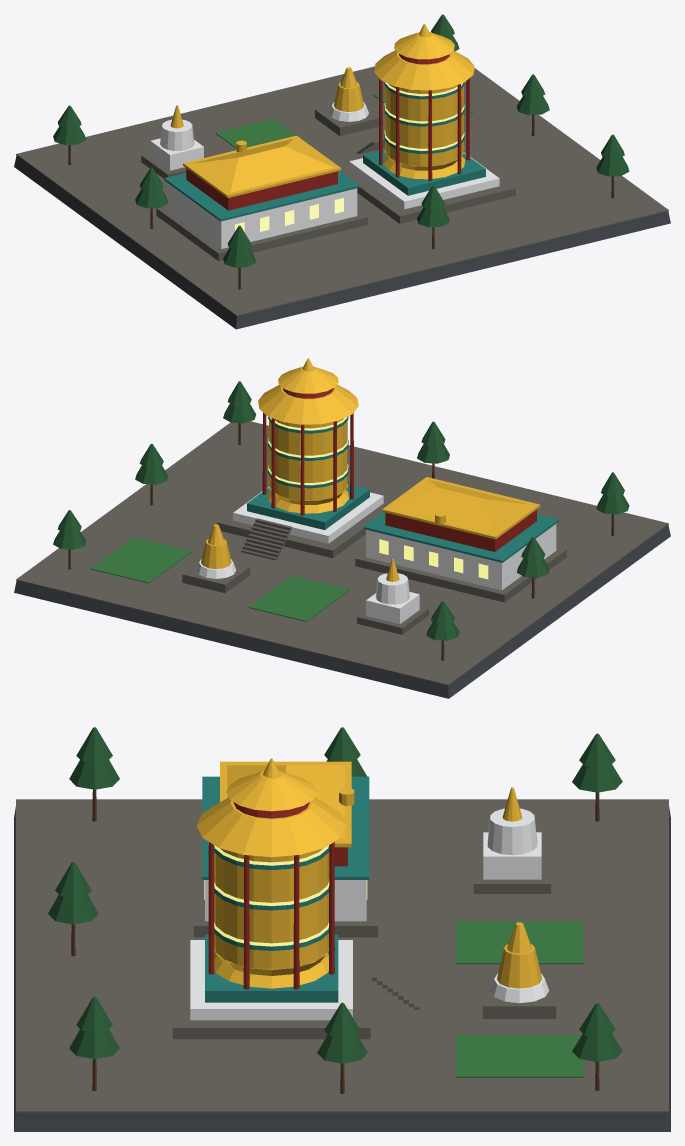
The model's file is lm_48_samten_hills_kinh_luan_dran.glb.
3 views of the same model, one above another, from view 1: azimuth 30°, elevation 25°; view 2: azimuth 150°, elevation 25°; view 3: azimuth 270°, elevation 25° (orthographic). The views are drawn at different scales.
Parts seen in each view (by area): view 1: Foundation_Plinth_Trim, KinhLuan_24K_Gold_Prayer_Wheel_37m22, Foundation_Skirt, PeaceStupa_And_Temple_White_Walls, SamtenHills_Mandala_Stone_Terraces, SamtenHills_Pine_Canopies, Mandala_Turquoise_Ornamental_Bands, Vajrayana_Himalayan_Crimson_Walls, Vajrayana_Heritage_Hall_Golden_Roof, SamtenHills_Terraced_Lawns, SamtenHills_Glowing_Sanctuary_Windows; view 2: Foundation_Plinth_Trim, KinhLuan_24K_Gold_Prayer_Wheel_37m22, Foundation_Skirt, PeaceStupa_And_Temple_White_Walls, SamtenHills_Mandala_Stone_Terraces, SamtenHills_Pine_Canopies, SamtenHills_Terraced_Lawns, Mandala_Turquoise_Ornamental_Bands, Vajrayana_Himalayan_Crimson_Walls, Vajrayana_Heritage_Hall_Golden_Roof, SamtenHills_Glowing_Sanctuary_Windows; view 3: Foundation_Plinth_Trim, KinhLuan_24K_Gold_Prayer_Wheel_37m22, SamtenHills_Mandala_Stone_Terraces, Foundation_Skirt, SamtenHills_Pine_Canopies, PeaceStupa_And_Temple_White_Walls, SamtenHills_Terraced_Lawns, Mandala_Turquoise_Ornamental_Bands, Vajrayana_Himalayan_Crimson_Walls, Vajrayana_Heritage_Hall_Golden_Roof, SamtenHills_Glowing_Sanctuary_Windows, SamtenHills_Pine_Trunks.
Part boxes in pixels (<box>): Foundation_Plinth_Trim: <box>16,66,668,316</box>; KinhLuan_24K_Gold_Prayer_Wheel_37m22: <box>170,23,474,197</box>; Foundation_Skirt: <box>14,155,670,329</box>; PeaceStupa_And_Temple_White_Walls: <box>150,102,499,248</box>; SamtenHills_Mandala_Stone_Terraces: <box>141,105,515,261</box>; SamtenHills_Pine_Canopies: <box>53,14,629,267</box>; Mandala_Turquoise_Ornamental_Bands: <box>164,82,485,221</box>; Vajrayana_Himalayan_Crimson_Walls: <box>186,54,469,210</box>; Vajrayana_Heritage_Hall_Golden_Roof: <box>192,138,333,192</box>; SamtenHills_Terraced_Lawns: <box>215,91,473,148</box>; SamtenHills_Glowing_Sanctuary_Windows: <box>235,82,464,231</box>; Foundation_Plinth_Trim: <box>16,421,668,685</box>; KinhLuan_24K_Gold_Prayer_Wheel_37m22: <box>201,358,540,581</box>; Foundation_Skirt: <box>14,524,670,698</box>; PeaceStupa_And_Temple_White_Walls: <box>196,486,556,624</box>; SamtenHills_Mandala_Stone_Terraces: <box>182,484,566,634</box>; SamtenHills_Pine_Canopies: <box>53,381,629,640</box>; SamtenHills_Terraced_Lawns: <box>91,537,349,621</box>; Mandala_Turquoise_Ornamental_Bands: <box>247,416,558,562</box>; Vajrayana_Himalayan_Crimson_Walls: <box>262,388,536,551</box>; Vajrayana_Heritage_Hall_Golden_Roof: <box>390,480,531,533</box>; SamtenHills_Glowing_Sanctuary_Windows: <box>268,416,488,579</box>; Foundation_Plinth_Trim: <box>16,799,668,1112</box>; KinhLuan_24K_Gold_Prayer_Wheel_37m22: <box>196,758,541,988</box>; SamtenHills_Mandala_Stone_Terraces: <box>172,818,556,1039</box>; Foundation_Skirt: <box>14,807,670,1131</box>; SamtenHills_Pine_Canopies: <box>48,727,622,1063</box>; PeaceStupa_And_Temple_White_Walls: <box>190,808,549,1020</box>; SamtenHills_Terraced_Lawns: <box>455,921,583,1077</box>; Mandala_Turquoise_Ornamental_Bands: <box>202,776,369,1002</box>; Vajrayana_Himalayan_Crimson_Walls: <box>208,802,347,989</box>; Vajrayana_Heritage_Hall_Golden_Roof: <box>227,765,344,839</box>; SamtenHills_Glowing_Sanctuary_Windows: <box>204,845,367,946</box>; SamtenHills_Pine_Trunks: <box>71,789,599,1093</box>.
Size of the model in its own units: 105 by 40.22 by 92.77.
